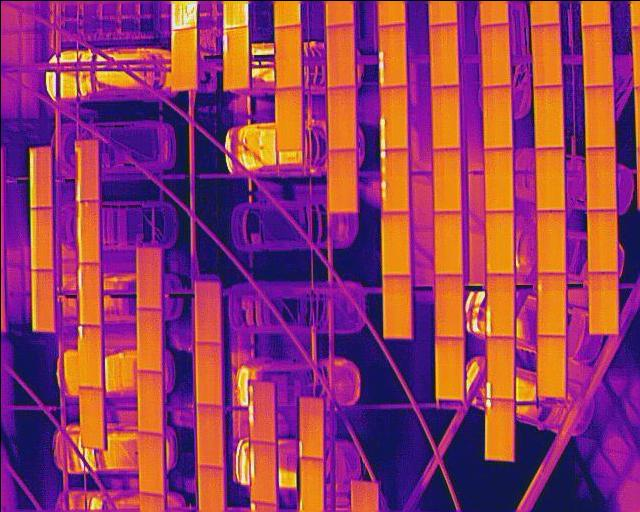Cell: (483, 398, 514, 460)
No-Anomaly: (587, 270, 618, 335), (484, 209, 513, 273), (587, 208, 616, 272), (585, 146, 614, 210), (585, 83, 614, 146), (431, 148, 460, 211), (327, 149, 356, 212), (536, 271, 565, 334), (536, 208, 564, 273), (326, 22, 353, 89), (435, 336, 464, 398), (480, 21, 507, 87), (583, 22, 611, 85), (531, 23, 559, 86), (433, 211, 461, 274), (535, 84, 562, 149), (484, 146, 511, 211), (327, 85, 354, 150), (274, 22, 301, 87), (429, 22, 456, 87), (194, 340, 221, 405), (195, 403, 222, 467), (431, 85, 458, 148), (536, 146, 563, 209), (483, 85, 510, 148), (275, 87, 302, 150), (382, 274, 409, 337), (536, 334, 563, 397), (381, 211, 408, 274), (171, 25, 196, 91), (194, 280, 219, 344), (138, 431, 163, 494), (136, 308, 161, 371), (436, 274, 461, 337), (137, 370, 162, 433), (135, 245, 160, 308), (30, 268, 53, 332), (28, 146, 52, 207), (76, 201, 99, 262), (29, 207, 52, 267), (80, 386, 102, 447), (77, 263, 99, 323), (76, 140, 98, 199), (298, 458, 322, 512)
Unclassified: (482, 337, 513, 399), (485, 274, 514, 336), (379, 85, 406, 150), (380, 148, 407, 210), (249, 441, 276, 503), (379, 22, 405, 86), (222, 27, 248, 90), (248, 381, 274, 442), (296, 395, 321, 458), (77, 323, 100, 386)
